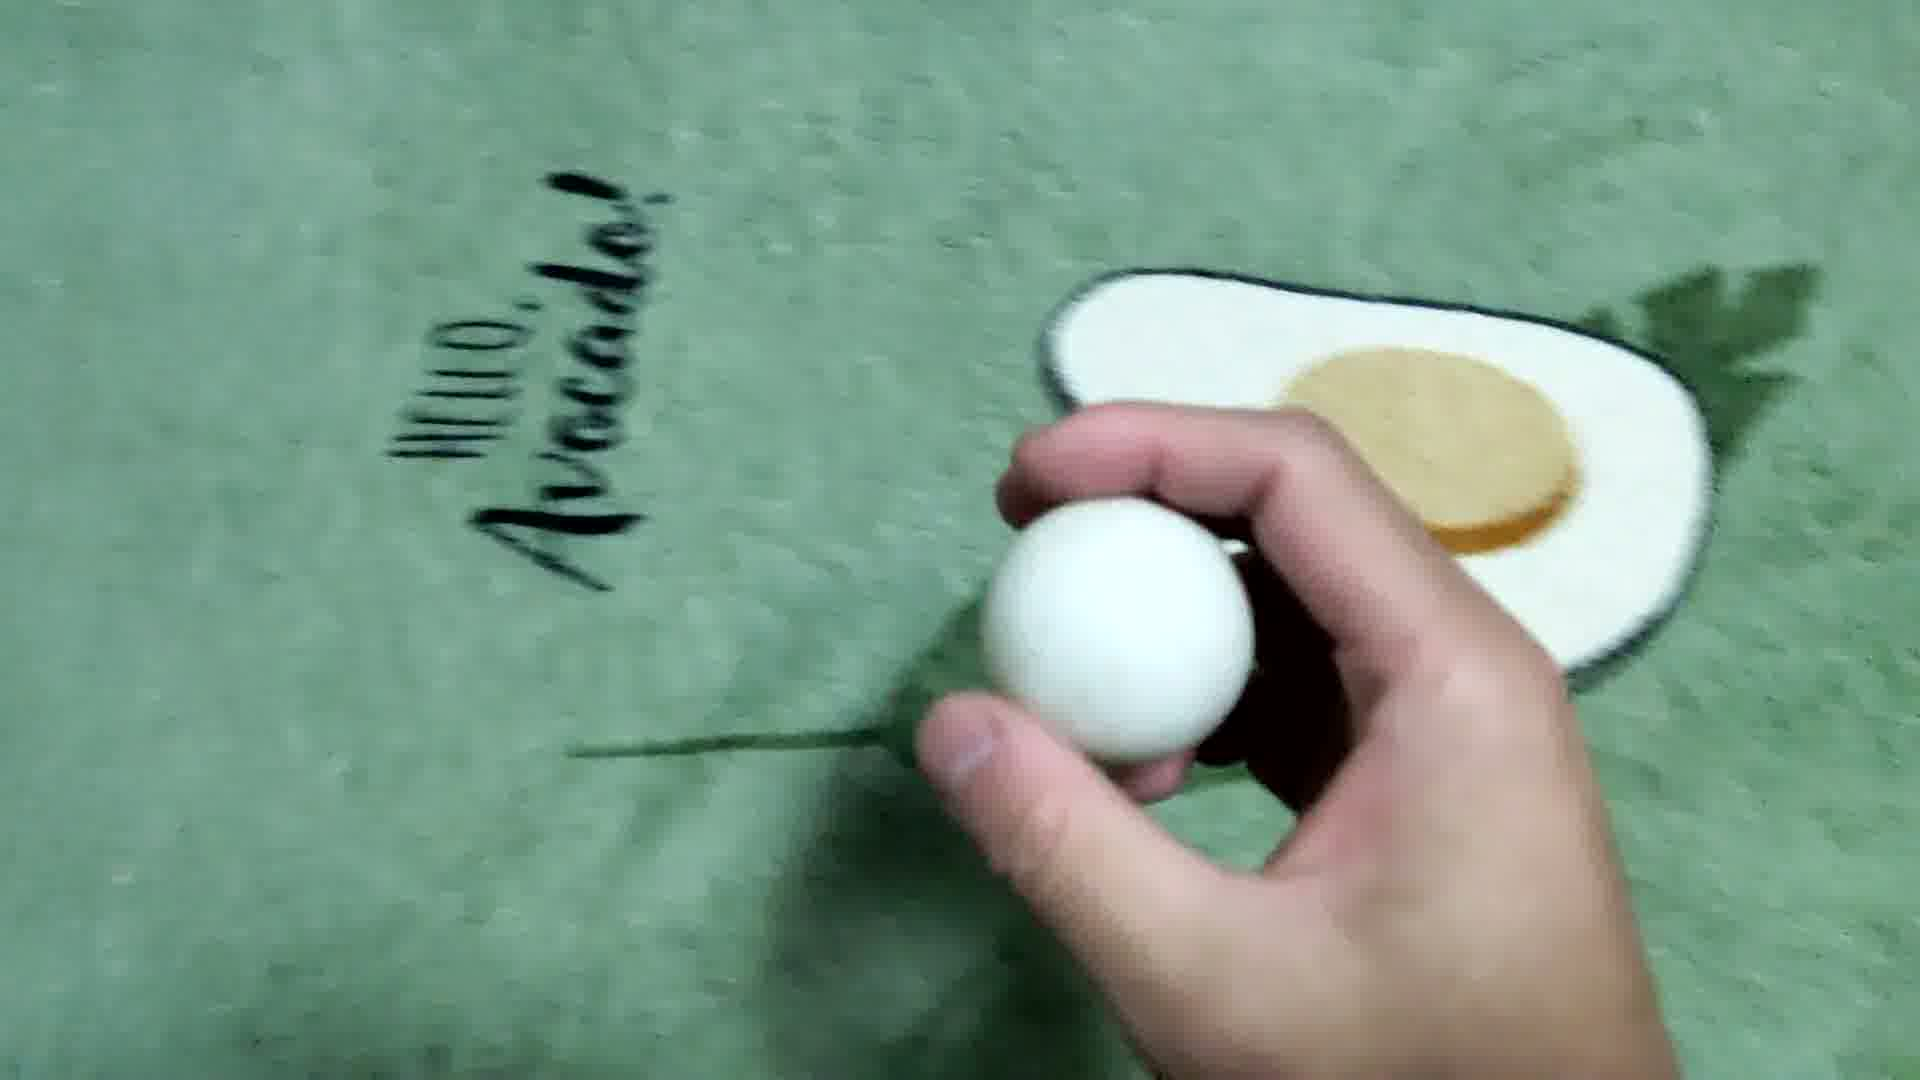Ball: (980, 495, 1259, 753)
